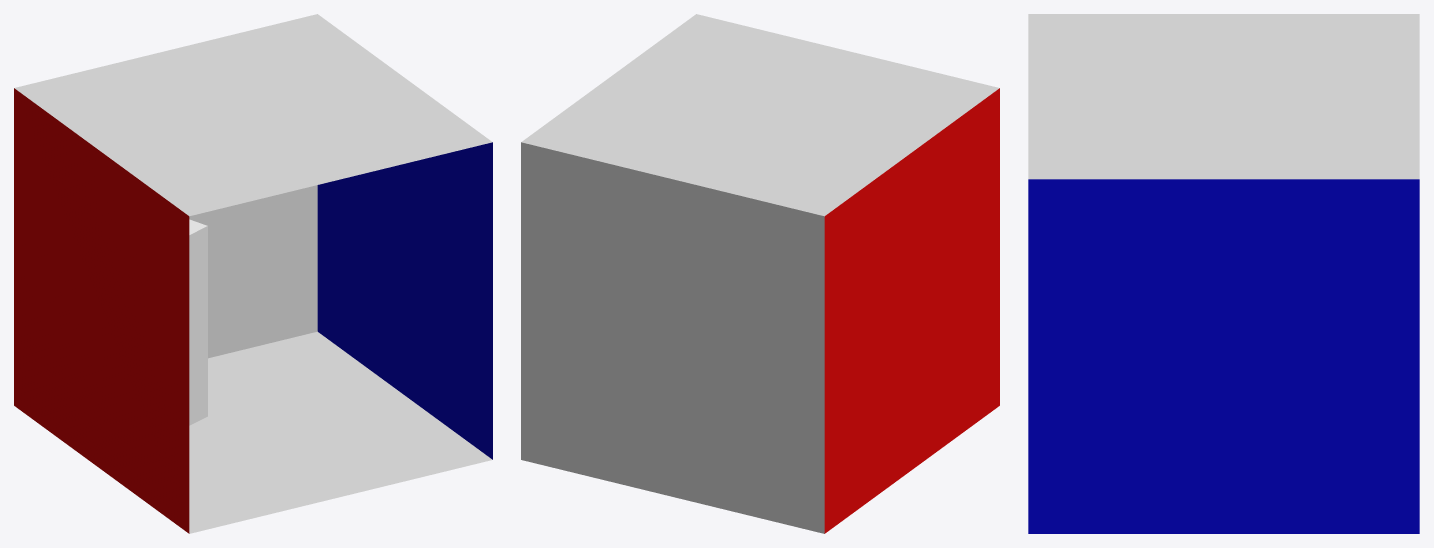
3 views of the same model, side by side, from view 1: azimuth 30°, elevation 25°; view 2: azimuth 150°, elevation 25°; view 3: azimuth 270°, elevation 25° (orthographic). The views are drawn at different scales.
Parts seen in each view (by area): view 1: left, top, right, bottom, back, Cube.001; view 2: back, left, top; view 3: right, top.
Part boxes in pixels (x1,y1,x2,y2): left: (14, 88, 189, 533); top: (14, 14, 492, 216); right: (317, 142, 492, 459); bottom: (189, 331, 492, 533); back: (189, 185, 317, 358); Cube.001: (189, 219, 207, 425); back: (521, 142, 824, 533); left: (824, 88, 999, 533); top: (521, 14, 999, 216); right: (1028, 179, 1419, 533); top: (1028, 14, 1419, 179).
Size of what is drawn, in the model's own units: 2 by 2 by 2.
